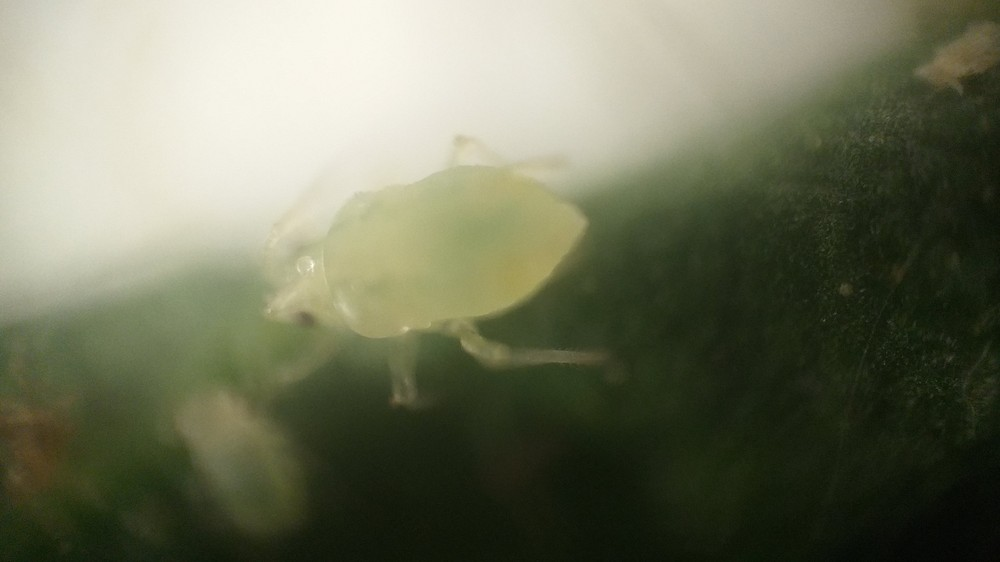Pulgon: (237, 115, 654, 448)
